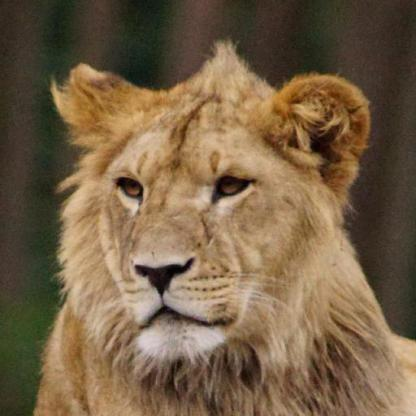lion: (61, 75, 354, 371)
